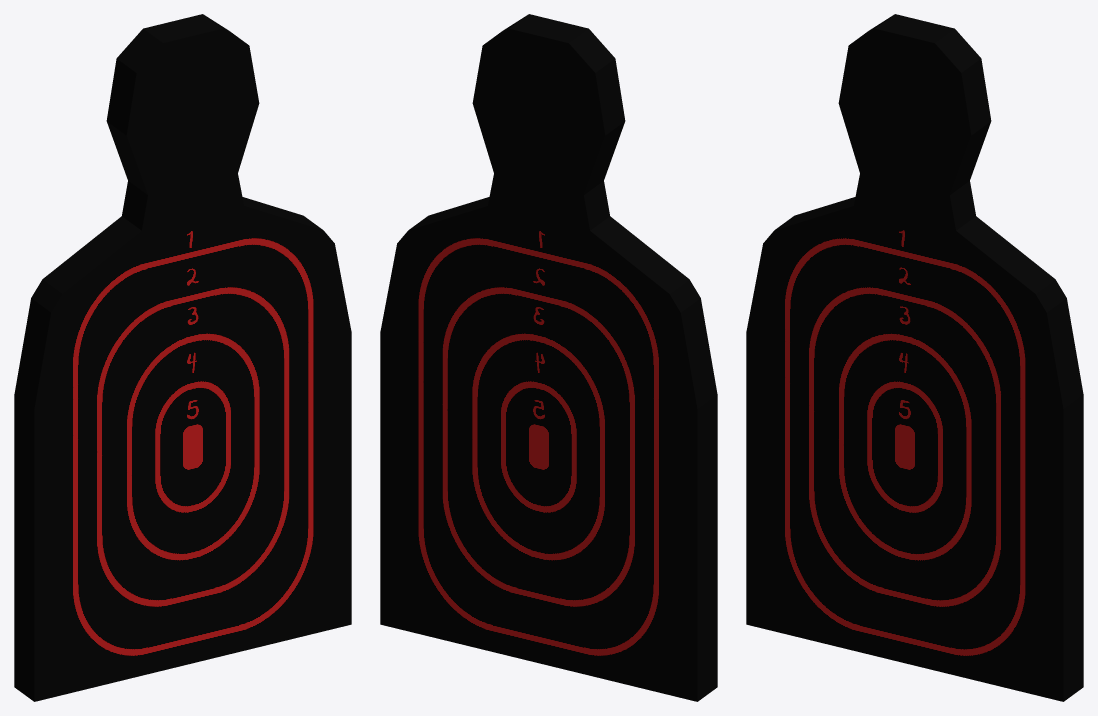
File: Alvo_fraco.glb
3 views of the same model, side by side, from view 1: azimuth 30°, elevation 25°; view 2: azimuth 150°, elevation 25°; view 3: azimuth 330°, elevation 25° (orthographic).
Visible parts, largest first — view 1: Alvo Fraco; view 2: Alvo Fraco; view 3: Alvo Fraco.
Part boxes in pixels (left/top/right/bottom): Alvo Fraco: left=14, top=14, right=351, bottom=701; Alvo Fraco: left=380, top=14, right=717, bottom=701; Alvo Fraco: left=746, top=14, right=1083, bottom=701.
Bounding box in the file's own units: 1.59 × 3 × 0.1736.
Materials: 1 (1 with a texture image).
